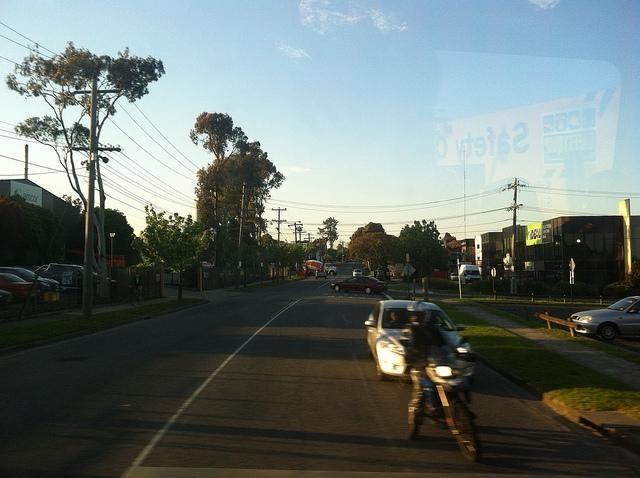car: (1, 272, 640, 341), (364, 299, 478, 383), (35, 263, 114, 290), (0, 267, 60, 292), (130, 262, 180, 287), (330, 276, 388, 294), (460, 264, 481, 284), (314, 269, 328, 279), (352, 268, 362, 276)
motorcycle: (418, 335, 482, 468)
